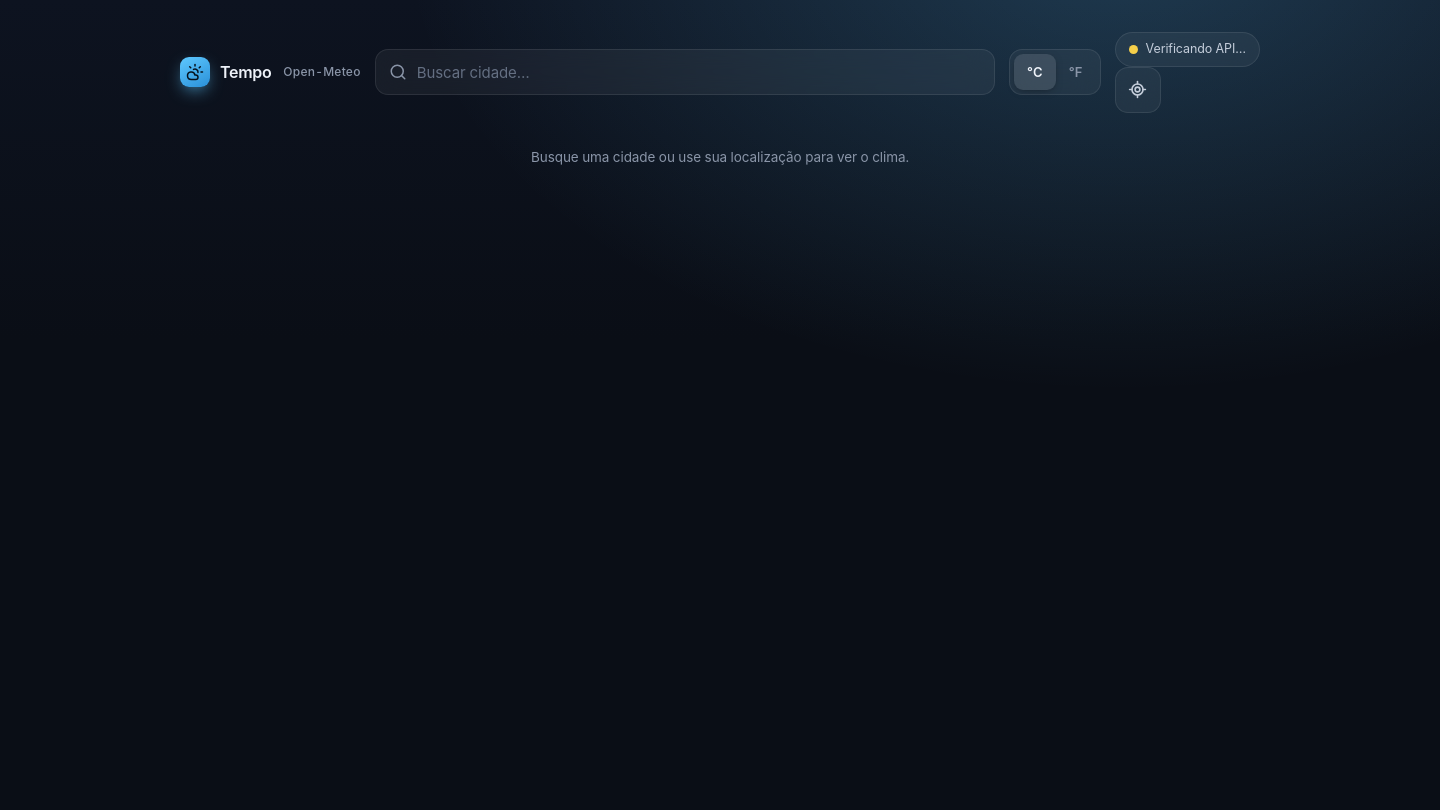
WeatherDashboardPage › #10 sets the active city from granted geolocation
This screenshot has width=1440, height=810.
Step 1. Click the button named "Usar minha localização" → [1138, 90], box [1114,67,1160,113]
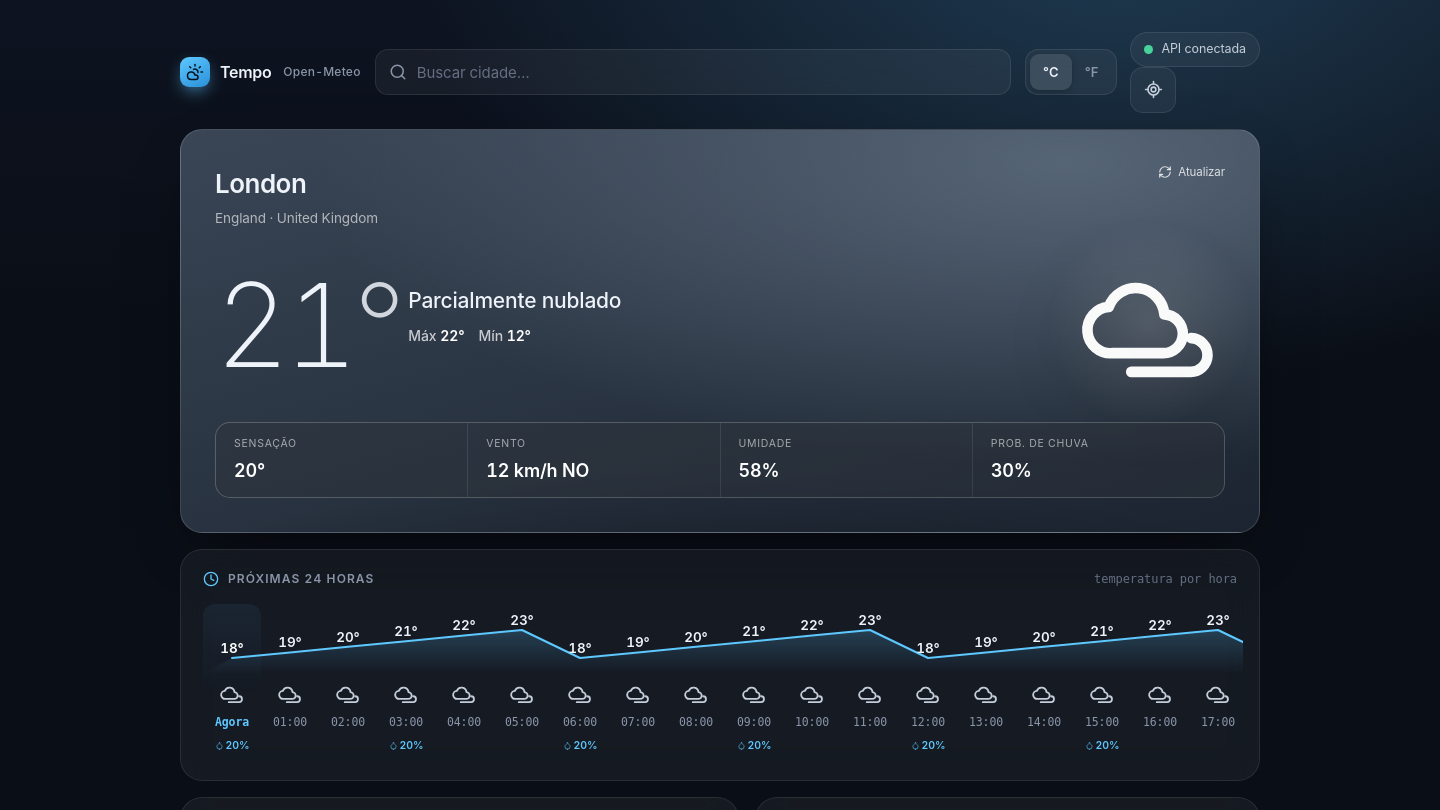
Check: the text "London" is shown, box [215,168,306,199]
